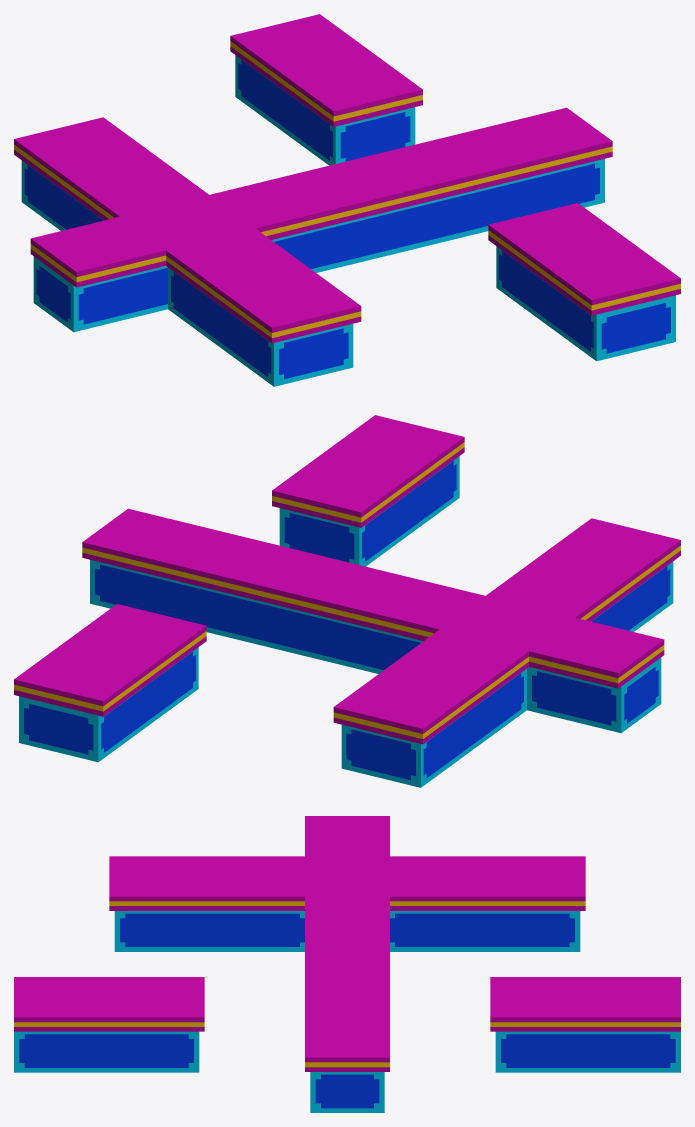
File: level_1.6.obj
3 renders of one model, top to bottom at view 1: azimuth 30°, elevation 25°; view 2: azimuth 150°, elevation 25°; view 3: azimuth 270°, elevation 25°, orthographic. The views are drawn at different scales.
Size of the model in its own units: 10.8 by 1.2 by 12.6.
1 material, 1 textured.
